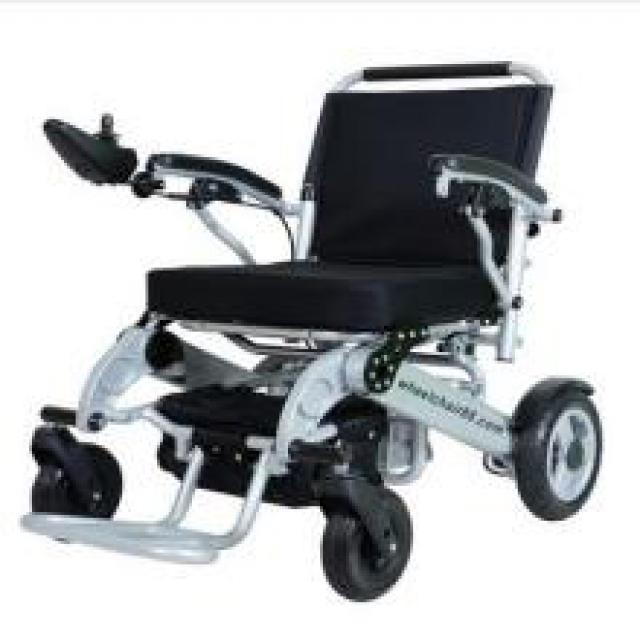wheelchair: (5, 41, 638, 614)
